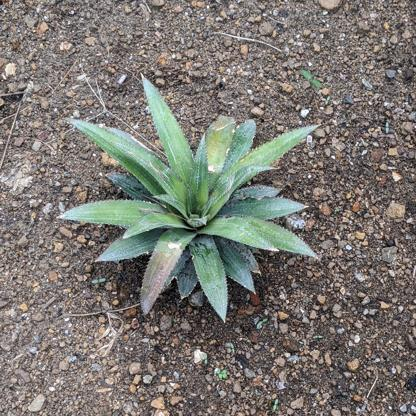pineapple: (55, 72, 323, 323)
